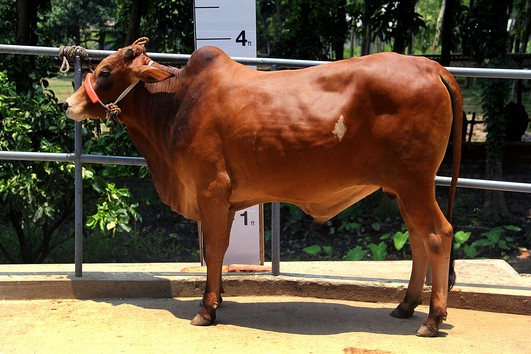cow: (60, 37, 465, 340)
